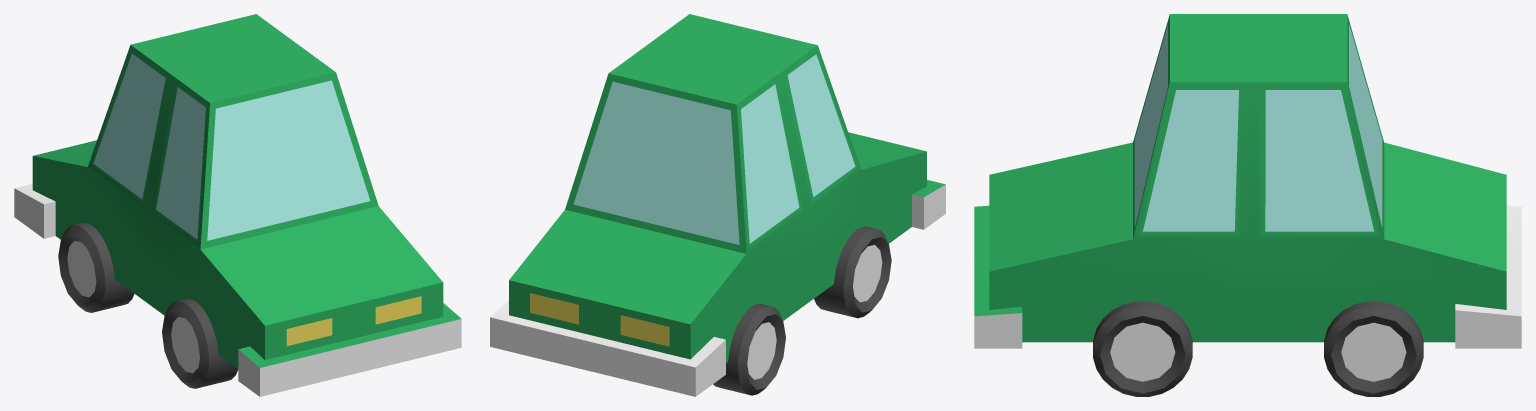
File: basic car green.fbx
3 views of the same model, side by side, from view 1: azimuth 30°, elevation 25°; view 2: azimuth 150°, elevation 25°; view 3: azimuth 270°, elevation 25° (orthographic). The views are drawn at different scales.
Visible parts, largest first — view 1: body, pCylinder10, pCylinder9; view 2: body, pCylinder9, pCylinder10; view 3: body, pCylinder7, pCylinder8.
Part boxes in pixels (bbox=[...]): body: bbox=[14, 14, 461, 396]; pCylinder10: bbox=[58, 222, 134, 312]; pCylinder9: bbox=[162, 298, 237, 388]; body: bbox=[490, 14, 945, 396]; pCylinder9: bbox=[814, 226, 891, 318]; pCylinder10: bbox=[713, 303, 785, 395]; body: bbox=[974, 14, 1521, 348]; pCylinder7: bbox=[1093, 301, 1192, 396]; pCylinder8: bbox=[1324, 301, 1423, 396].
Size of the model in its own units: 40.85 by 49.54 by 83.34.
Materials: 1 (1 with a texture image).
